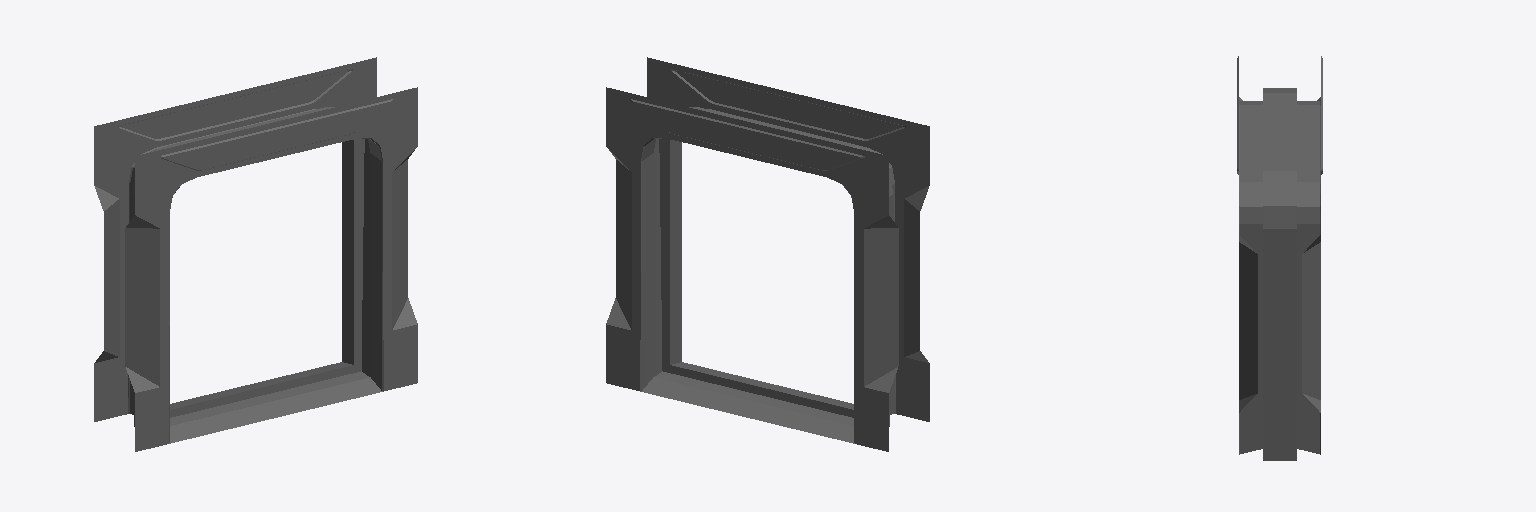
The model's file is Door02_HP.obj.
The picture shows the model from 3 angles: view 1: azimuth 30°, elevation 25°; view 2: azimuth 150°, elevation 25°; view 3: azimuth 270°, elevation 25°; orthographic projection.
Visible parts, largest first — view 1: Plane001; view 2: Plane001; view 3: Plane001.
Part boxes in pixels (x1,y1,x2,y2): Plane001: (94,57,417,451); Plane001: (606,57,929,451); Plane001: (1237,56,1322,460).
Size of the model in its own units: 512 by 516 by 134.